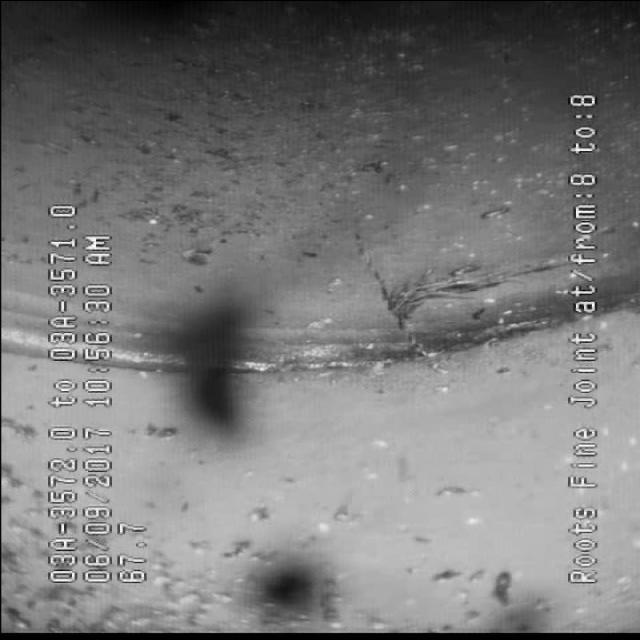Crack: (276, 162, 512, 336)
